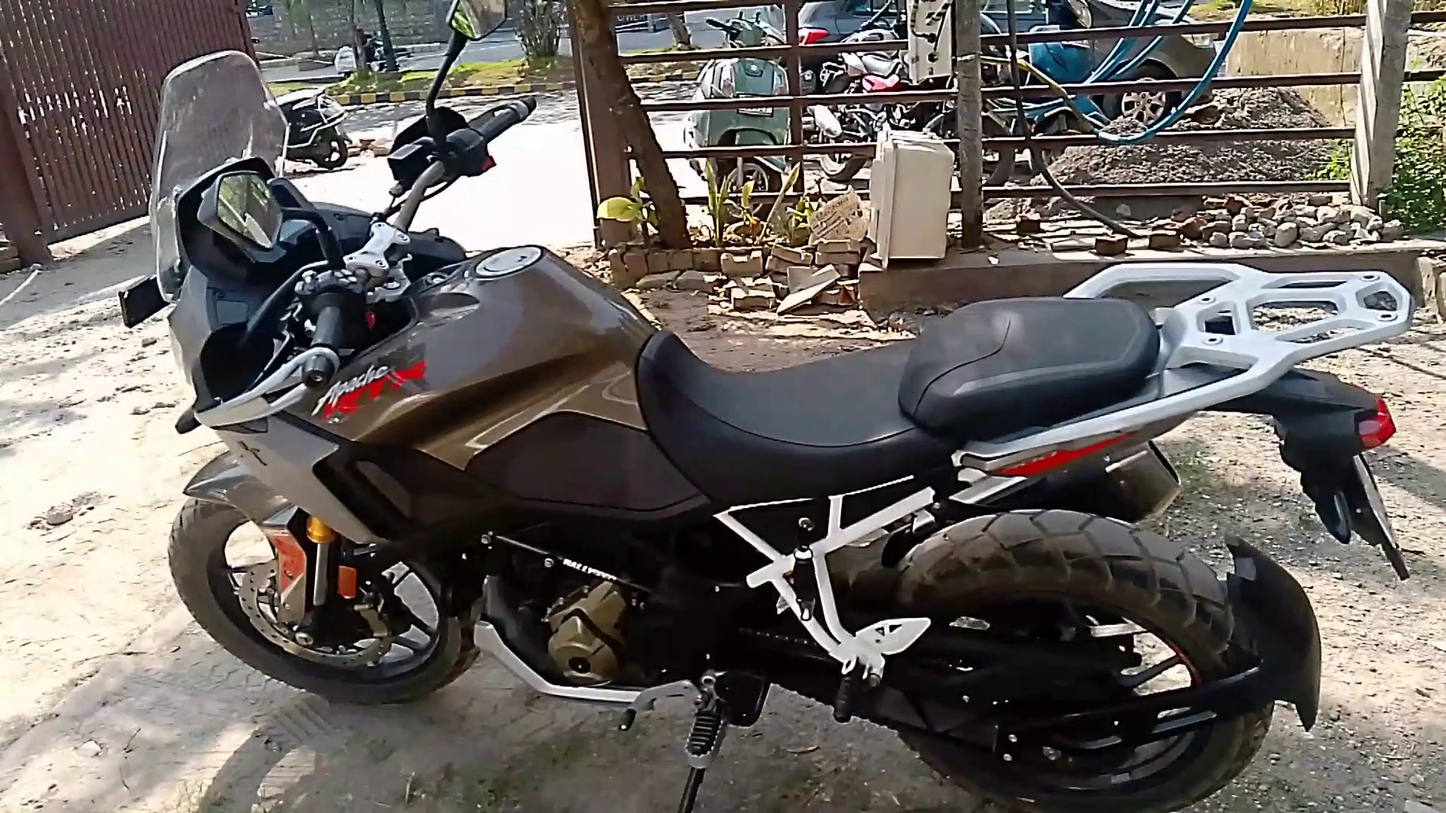engine: (510, 523, 682, 702)
